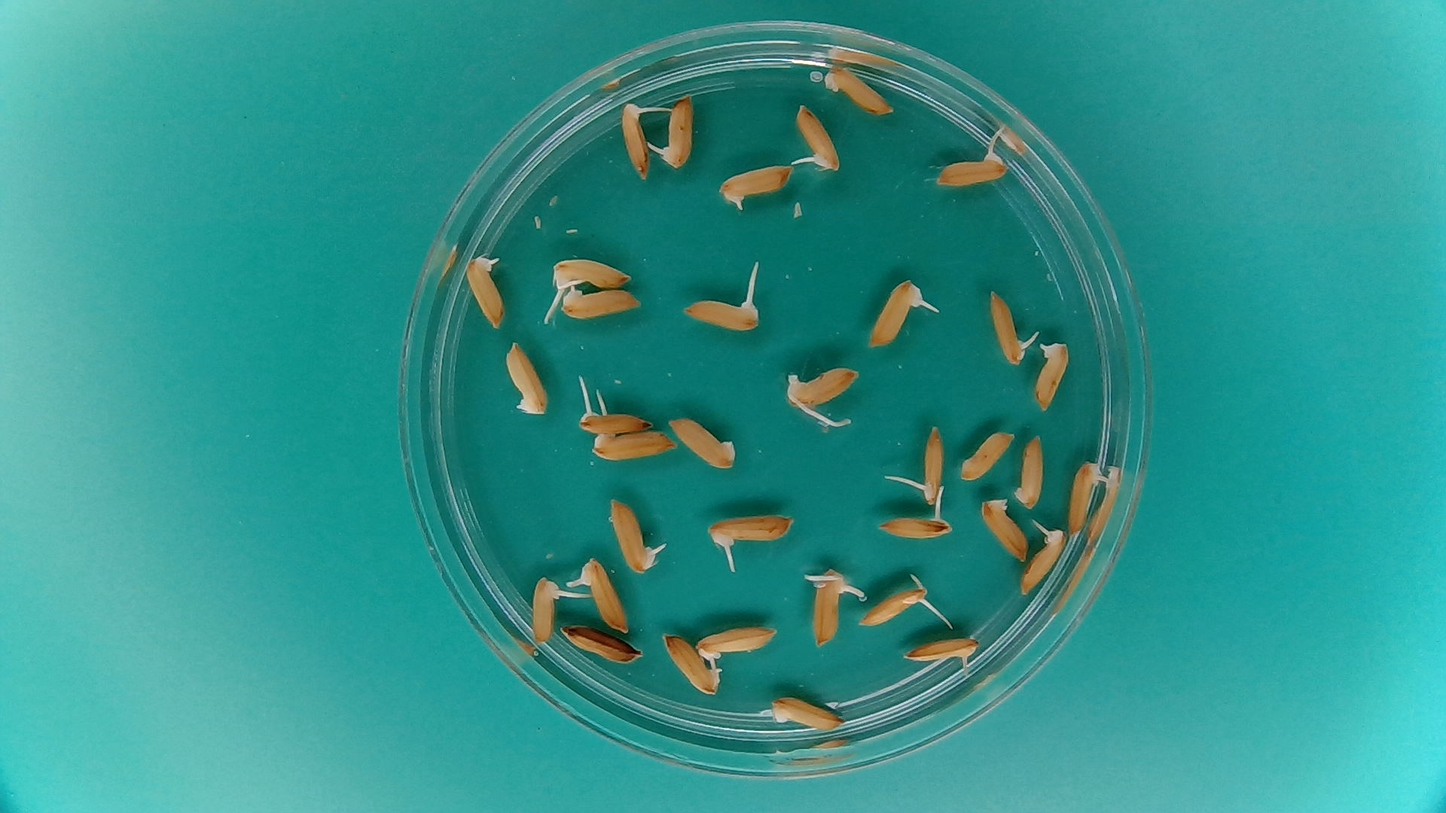no: (660, 630, 723, 699), (666, 413, 738, 472), (503, 338, 551, 418), (557, 622, 644, 665), (825, 64, 891, 115), (979, 497, 1029, 564), (764, 693, 847, 733), (958, 427, 1015, 483), (563, 284, 643, 321), (1011, 431, 1047, 510)
yes: (576, 559, 632, 634), (867, 278, 923, 348), (607, 499, 657, 574), (792, 101, 842, 174), (588, 427, 678, 464), (694, 626, 779, 665), (721, 160, 795, 204), (705, 511, 795, 547), (857, 583, 929, 628), (810, 570, 852, 647), (784, 365, 859, 408), (682, 294, 760, 335), (466, 255, 508, 330), (1065, 461, 1106, 537), (1017, 529, 1063, 596), (550, 257, 633, 294), (987, 291, 1026, 367), (932, 150, 1005, 190), (663, 96, 699, 169), (1034, 338, 1069, 413), (904, 636, 981, 669), (619, 102, 649, 179), (874, 512, 953, 541), (918, 426, 946, 506), (531, 577, 563, 647), (575, 405, 651, 434)
